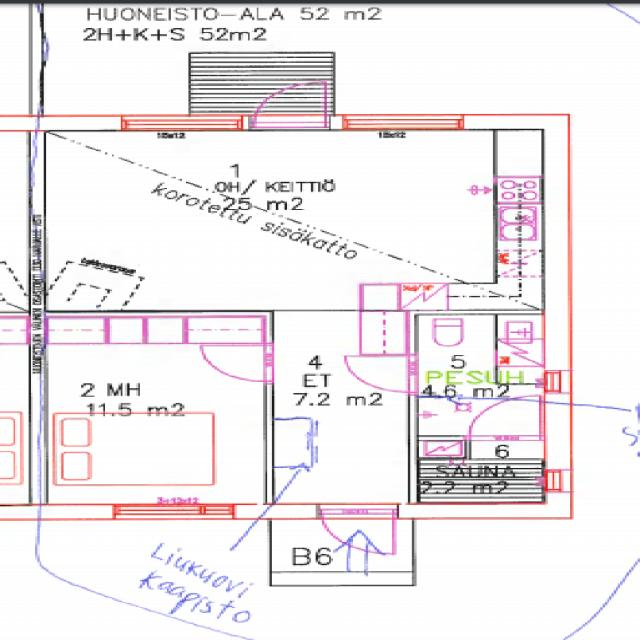door: (324, 504, 396, 559), (255, 75, 327, 129), (474, 399, 540, 440), (343, 356, 418, 392), (201, 346, 274, 382)
